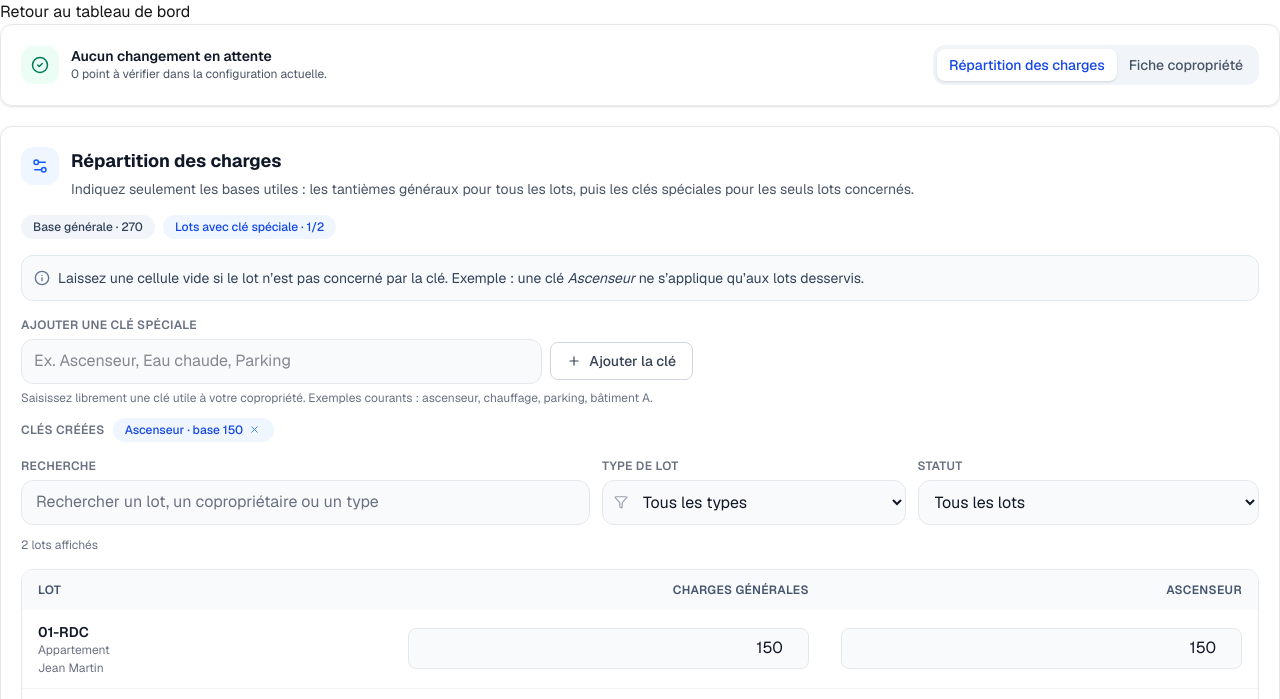
Test: CoproSettingsPanel › permet de filtrer les lots et d’ajouter manuellement une clé spéciale
In the field with placeholder "Rechercher un lot, un copropriétaire ou un type": point(306, 502) [21,480,590,525], type "03-1ER"
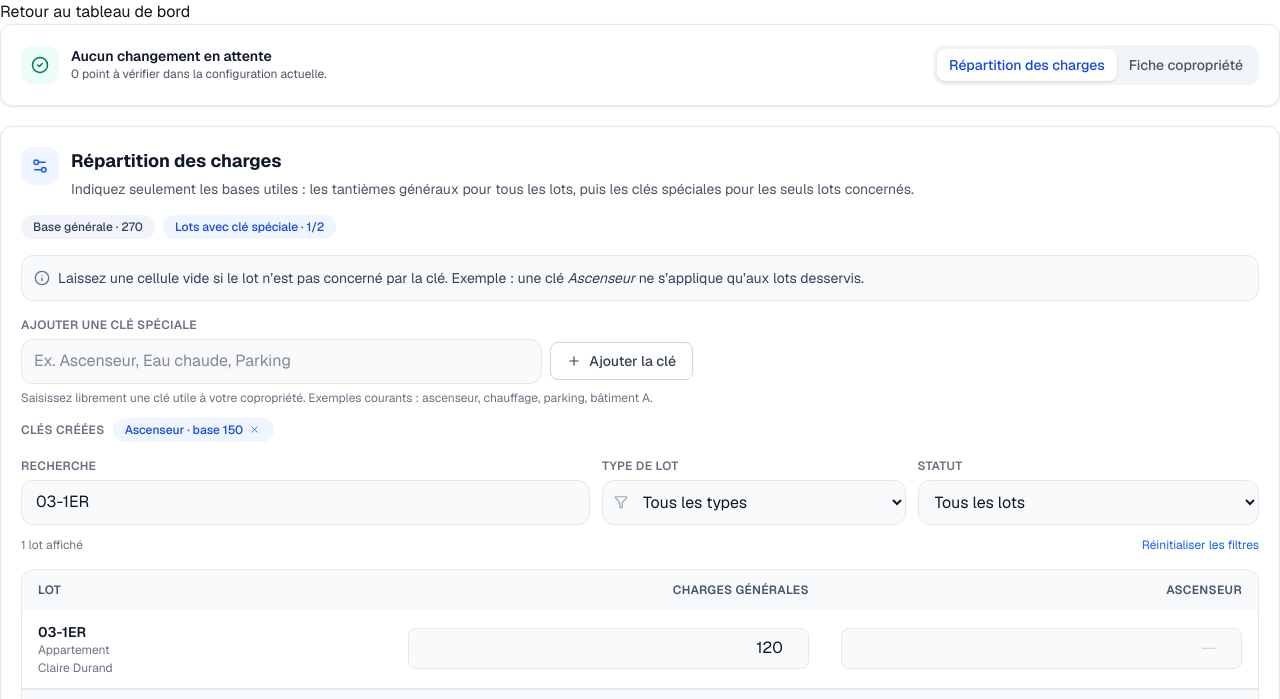
Expected: the text "03-1ER" is shown, [38,623,86,641]
Expected: the text "01-RDC" is gone
In the field labelled "Ajouter une clé spéciale Ajouter la clé": point(282, 361) [21,339,542,384], type "Local vélos"
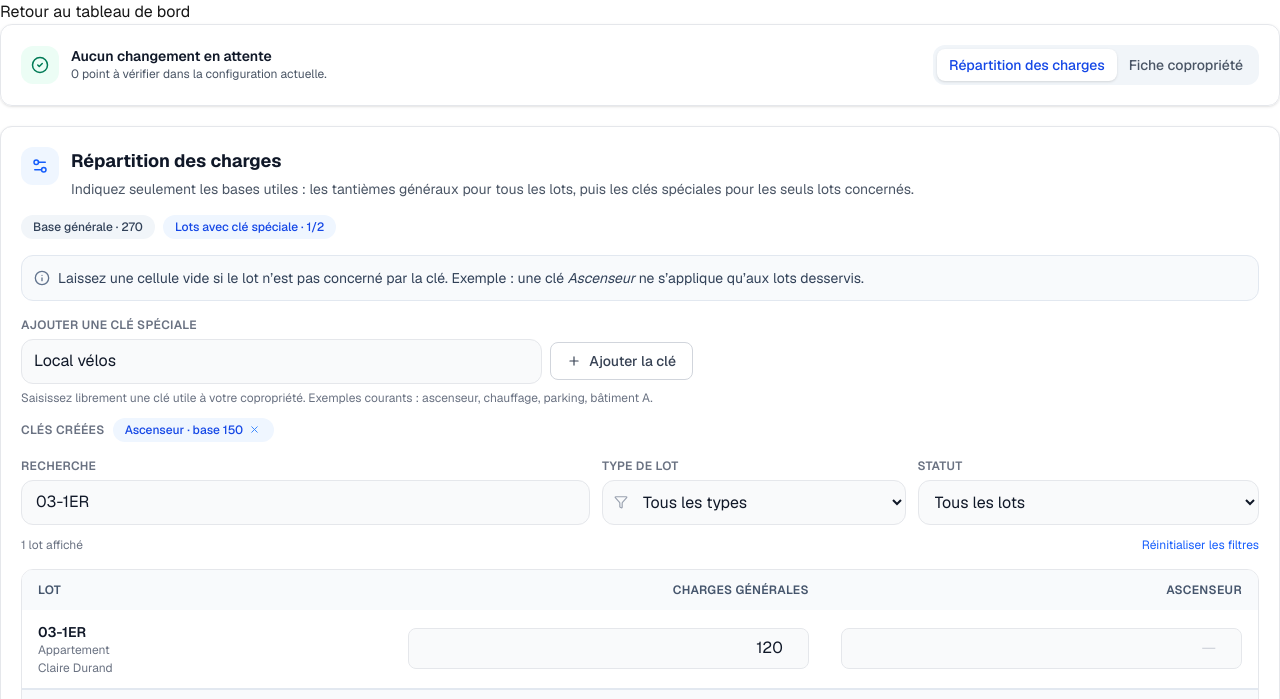
Click the button "Ajouter la clé": point(622, 361) [550,342,693,380]
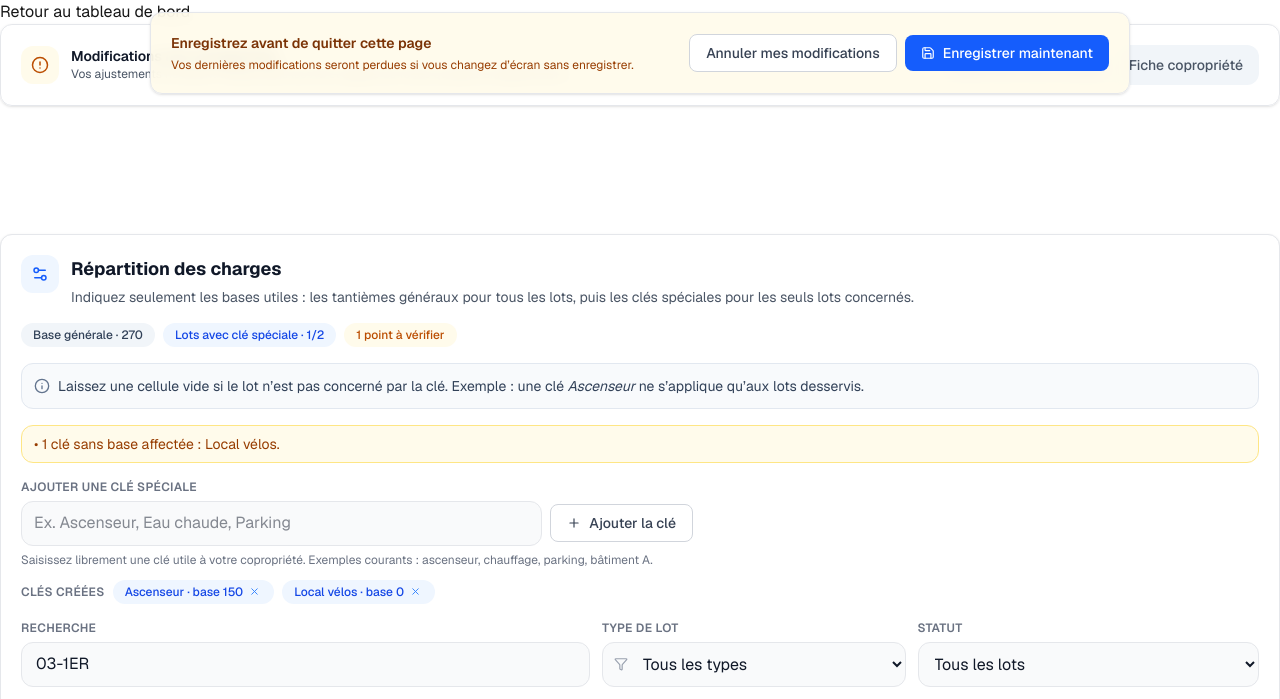
Expected: the text "Local vélos · base 0" is shown, [294,584,404,600]
